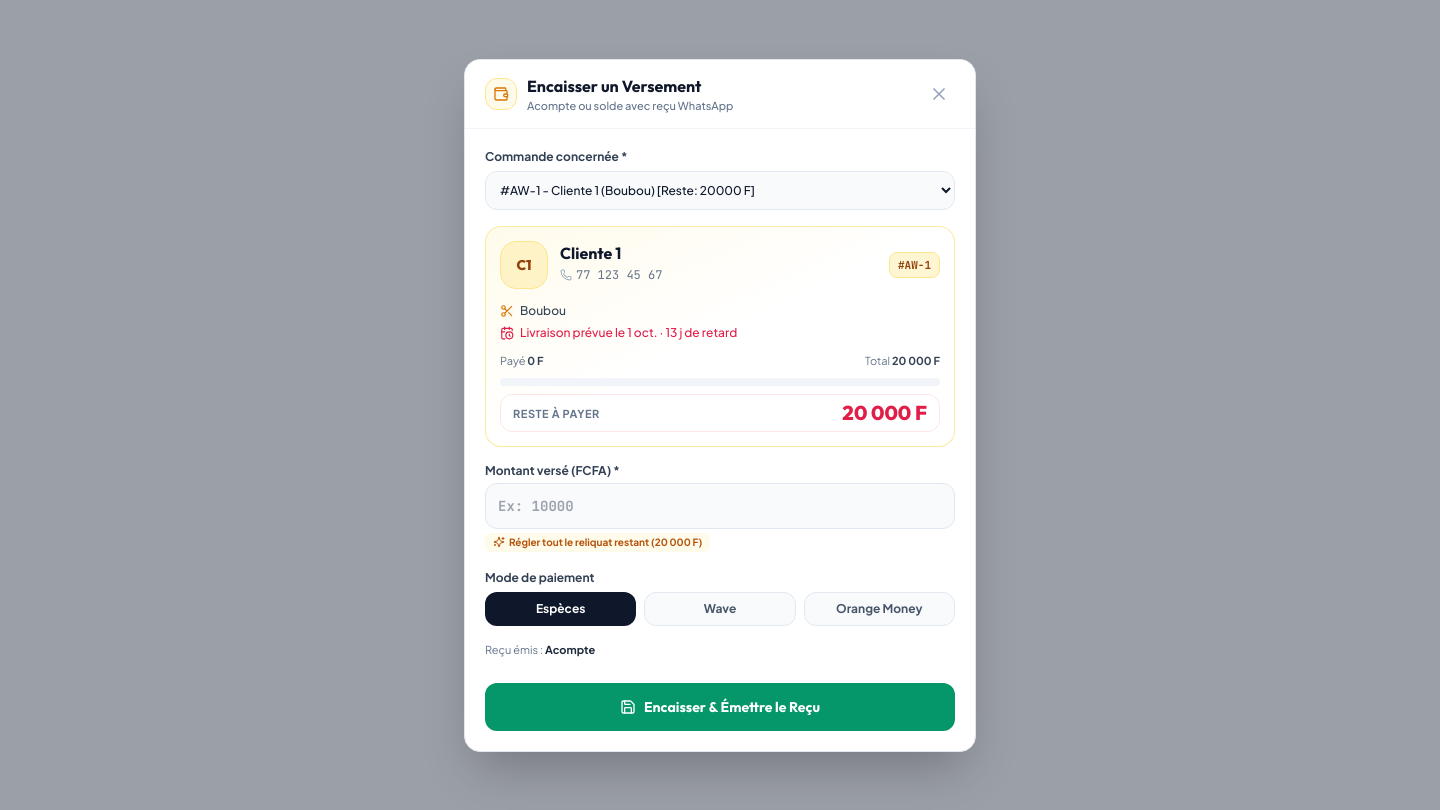
Test: PaymentModal › ne demande plus le type de quittance : il se déduit de la commande
Check: the text "Acompte" is shown, box [545,643,595,656]
Type "20000" into the number field labelled "Montant versé (FCFA) *" at (720, 506), box [485,482,955,528]
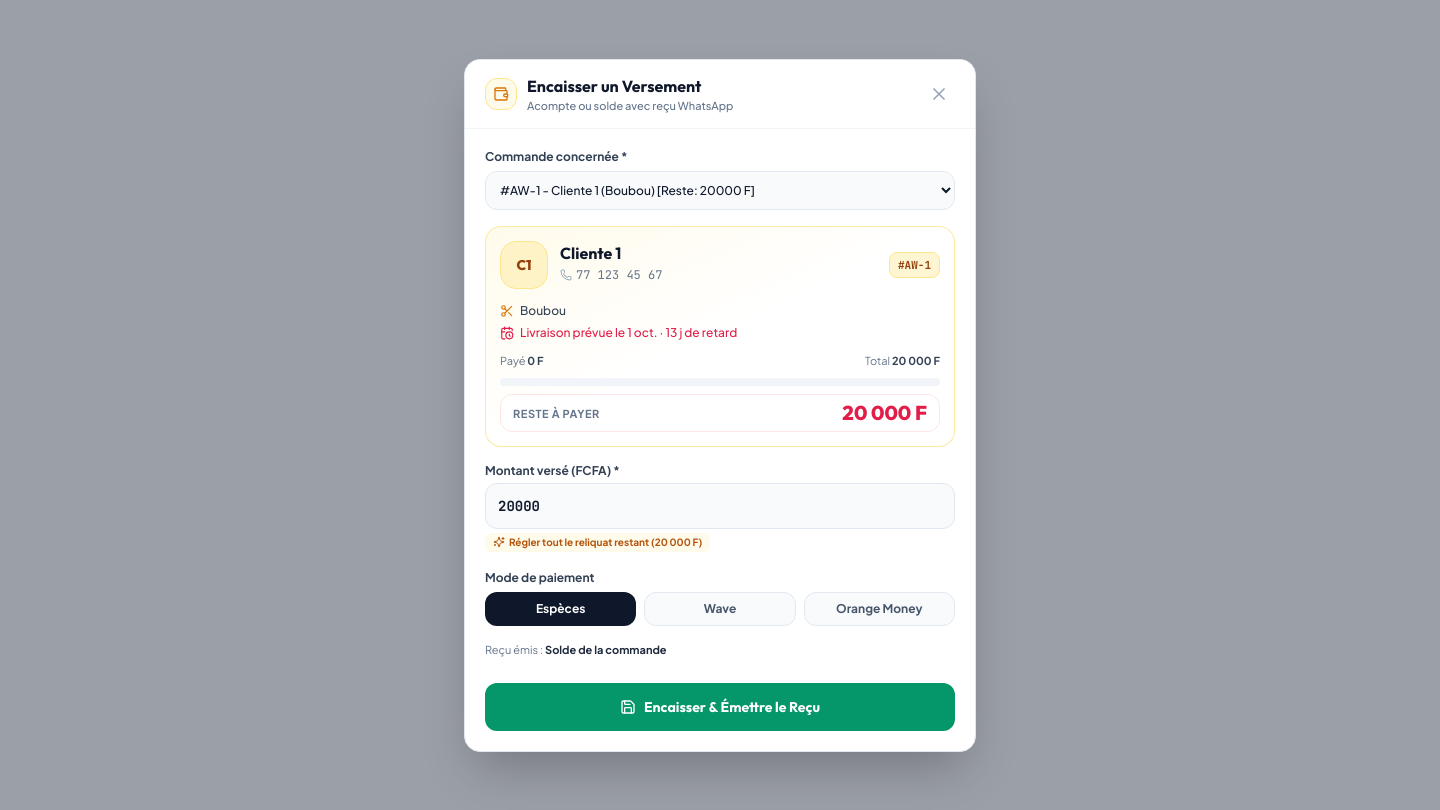
Check: the text "Solde de la commande" is shown, box [545,643,667,656]
